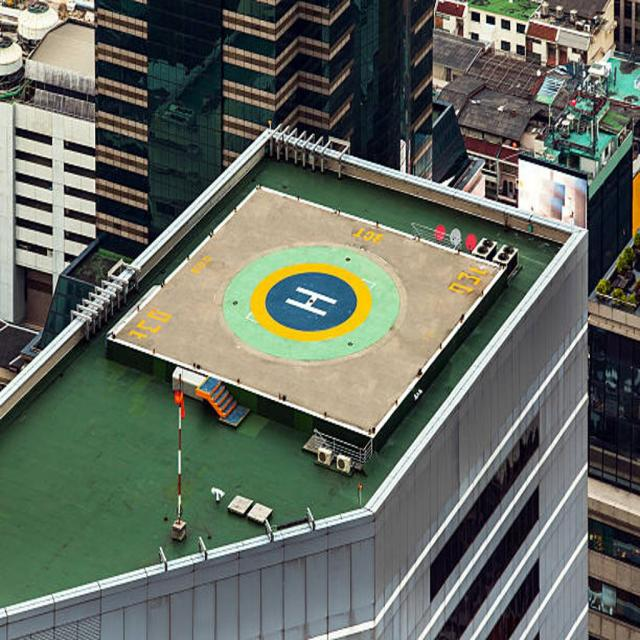helipad: (248, 261, 372, 341)
